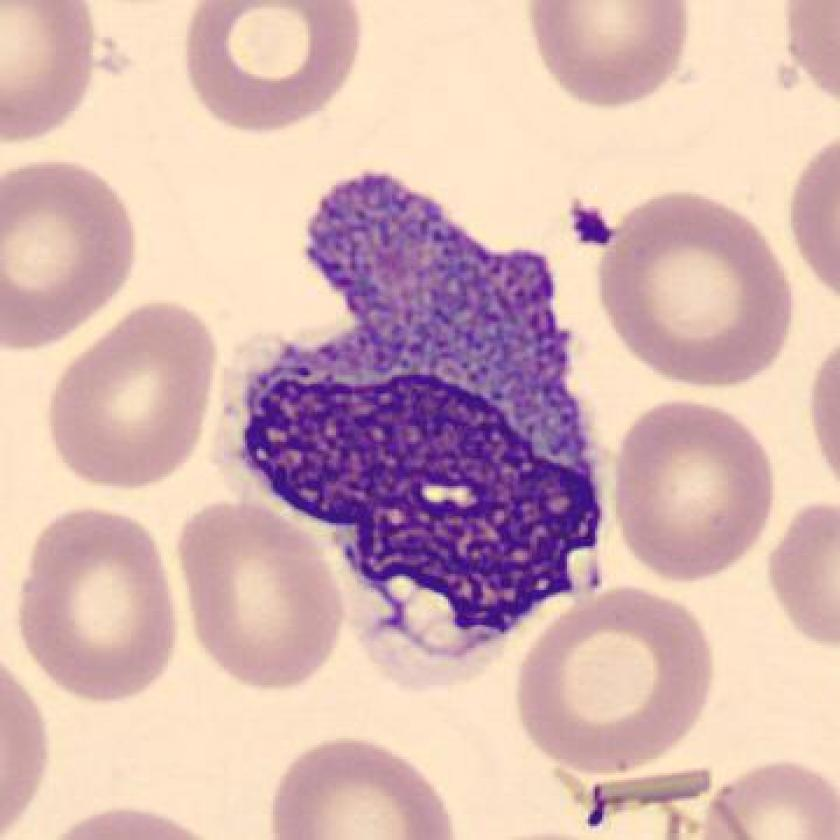monocyte: (199, 154, 636, 711)
